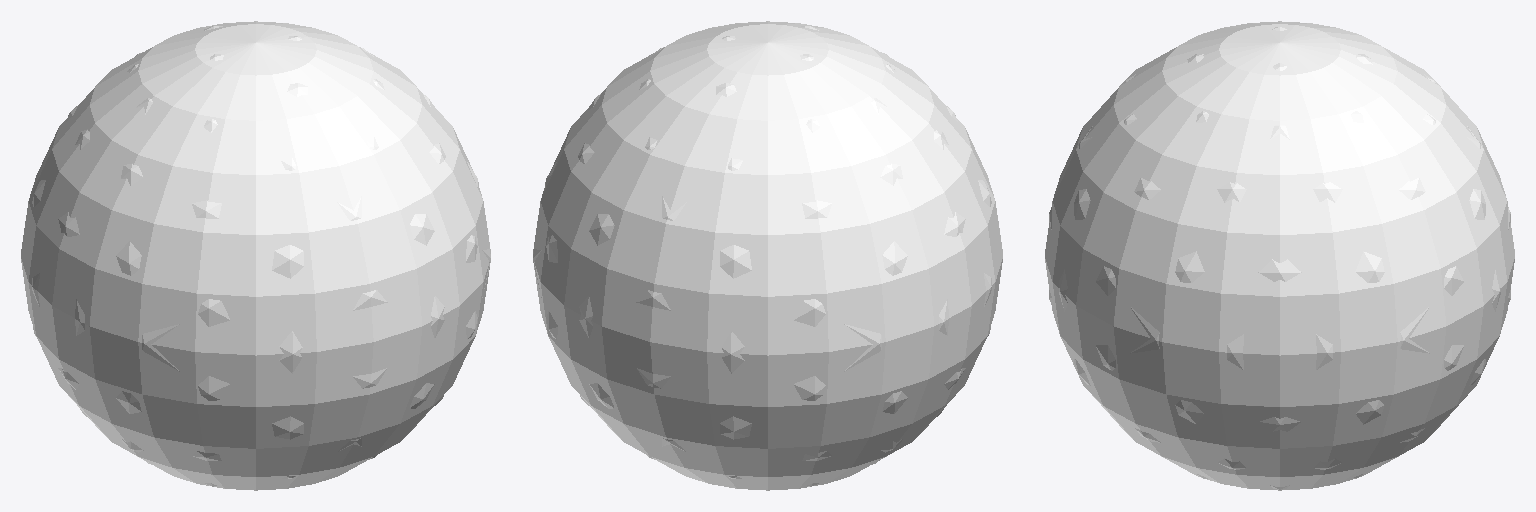
3 views of the same model, side by side, from view 1: azimuth 30°, elevation 25°; view 2: azimuth 150°, elevation 25°; view 3: azimuth 270°, elevation 25° (orthographic).
Visible parts, largest first — view 1: Fog_Sphere, Light_Sphere; view 2: Fog_Sphere, Light_Sphere; view 3: Fog_Sphere, Light_Sphere.
Boxes of the visible parts, x1=… form: Fog_Sphere: x1=21, y1=21, x2=490, y2=490; Light_Sphere: x1=32, y1=26, x2=490, y2=486; Fog_Sphere: x1=533, y1=21, x2=1002, y2=490; Light_Sphere: x1=533, y1=26, x2=991, y2=486; Fog_Sphere: x1=1045, y1=21, x2=1514, y2=490; Light_Sphere: x1=1049, y1=27, x2=1510, y2=489.
Bounding box in the file's own units: 6000 × 6000 × 6000.